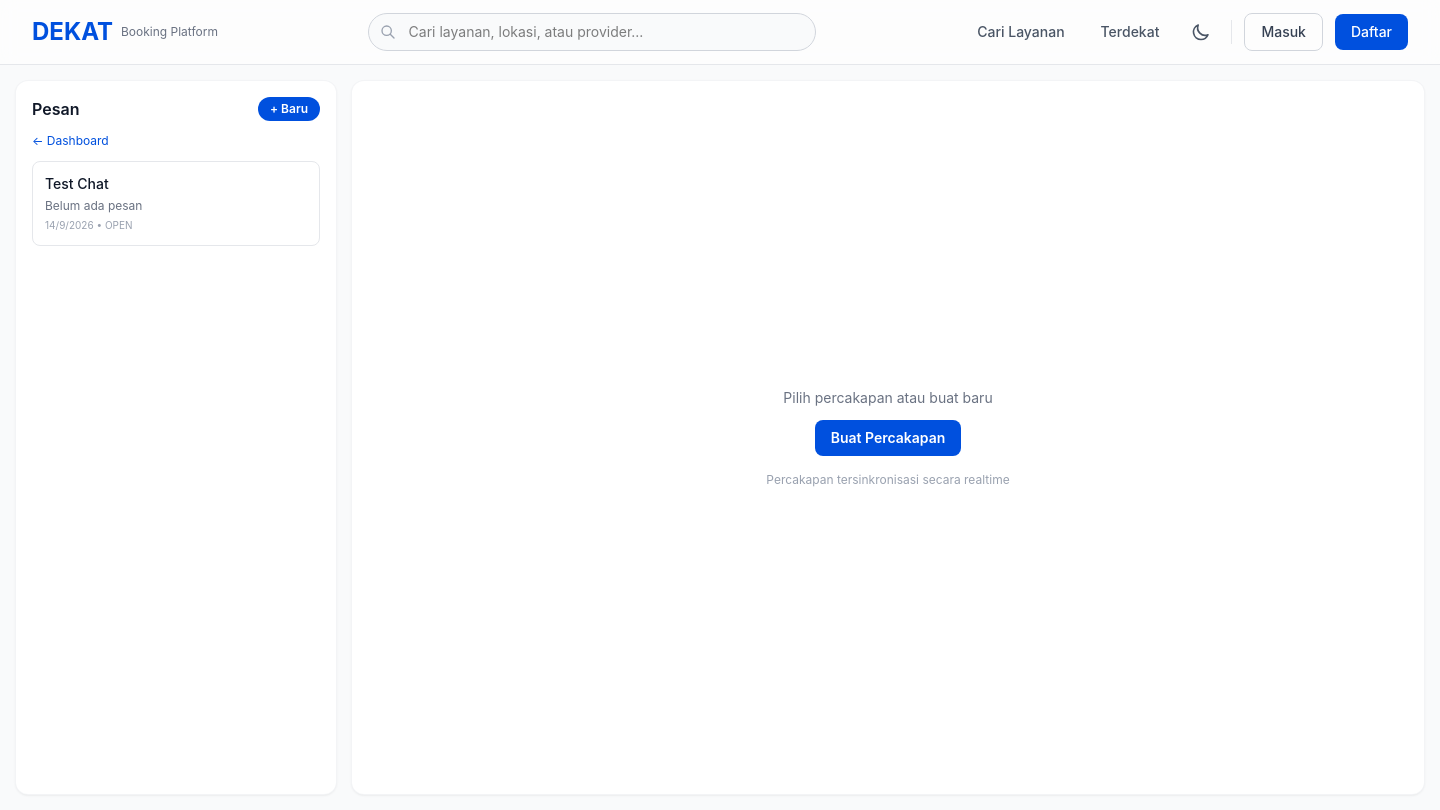
ChatPage › selects conversation and shows messages
Click the text "Test Chat": (77, 184) [45, 175, 109, 192]
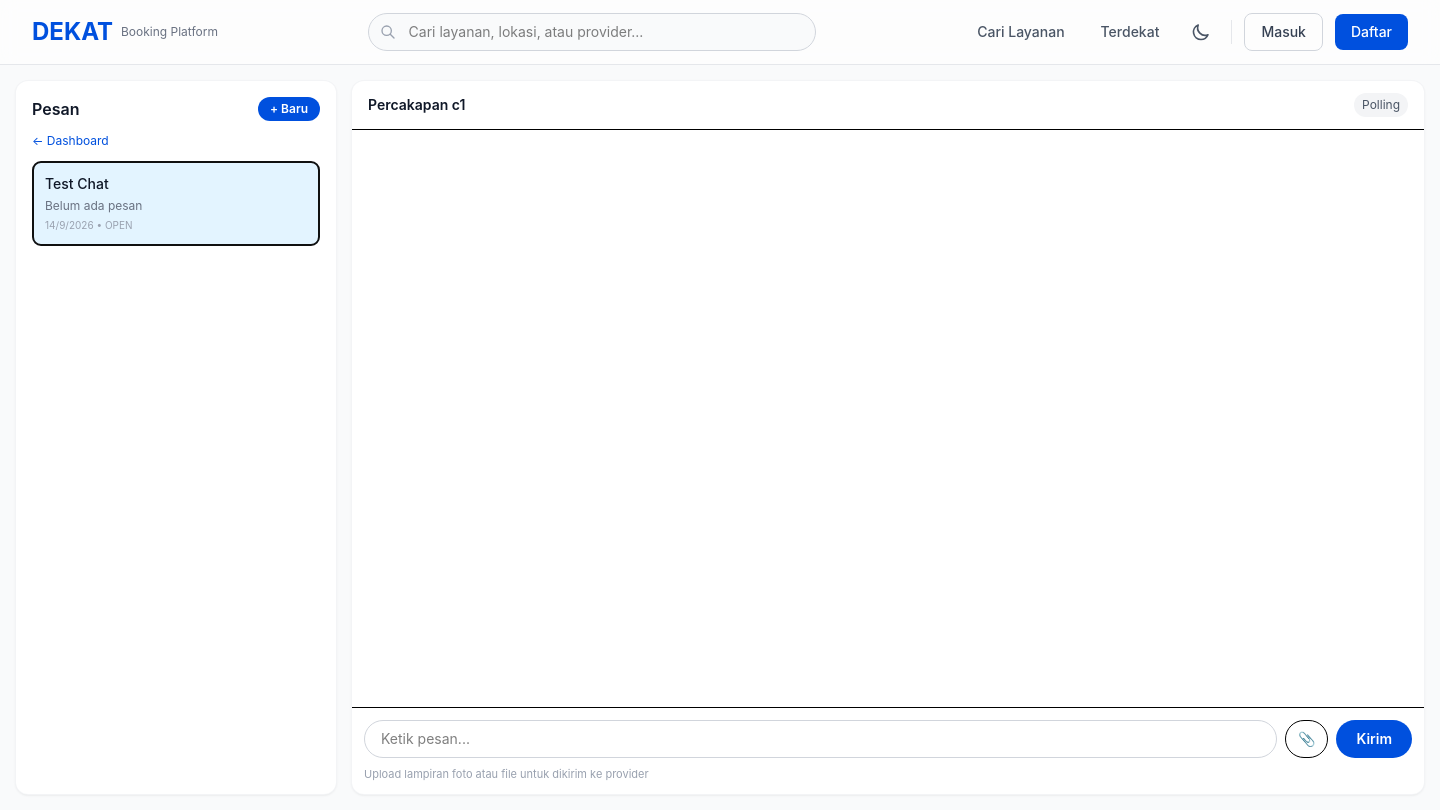
Expected: the heading "Percakapan c1" is shown, [368, 95, 465, 115]
